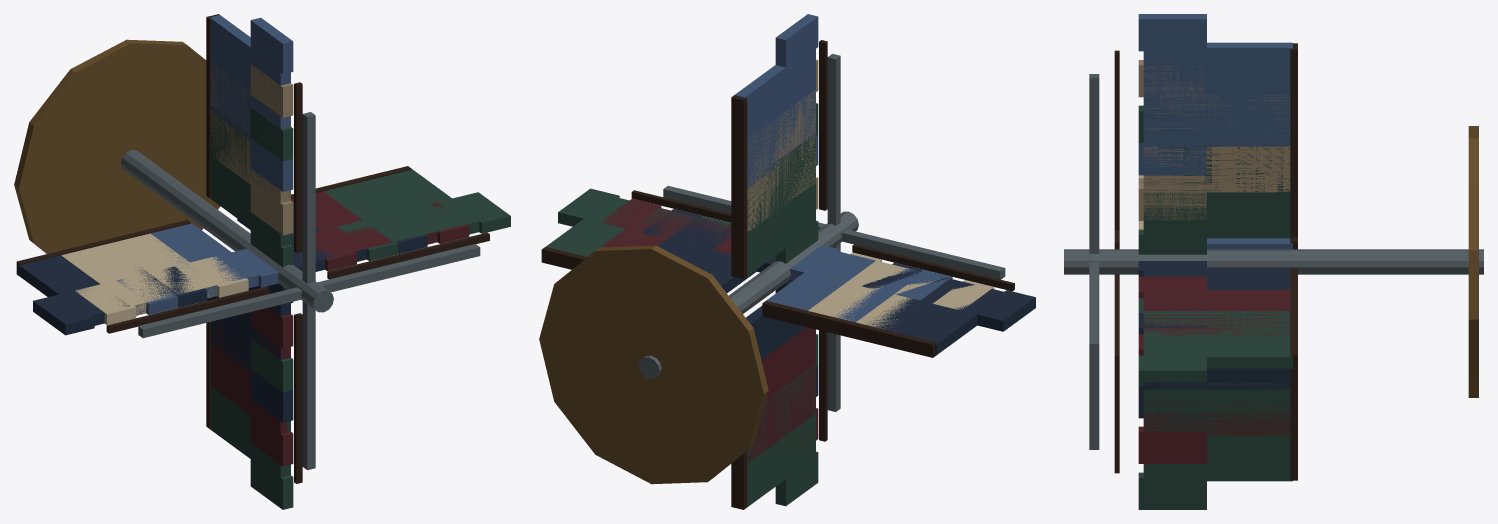
The model's file is SM_BSW_FourWay.obj.
The picture shows the model from 3 angles, left to right: view 1: azimuth 30°, elevation 25°; view 2: azimuth 150°, elevation 25°; view 3: azimuth 270°, elevation 25°; orthographic projection. The views are drawn at different scales.
Visible parts, largest first — view 1: SM_BSW_FourWay; view 2: SM_BSW_FourWay; view 3: SM_BSW_FourWay.
Part boxes in pixels (x1,y1,x2,y2): SM_BSW_FourWay: (14,14,510,509); SM_BSW_FourWay: (539,14,1035,509); SM_BSW_FourWay: (1064,14,1483,509).
Bounding box in the file's own units: 214 × 214 × 166.
